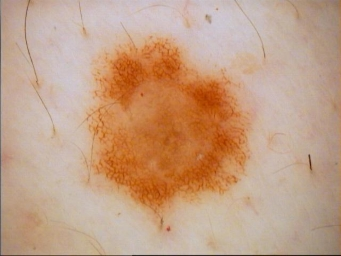melanoma: (96, 37, 245, 207)
